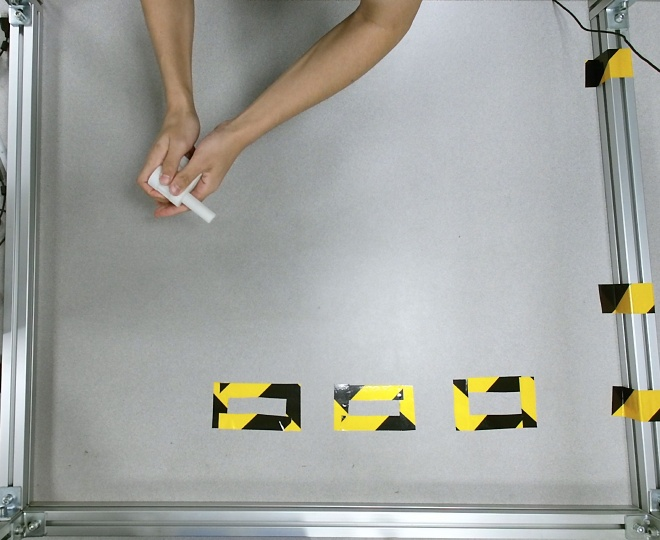stage_4: (149, 152, 214, 223)
